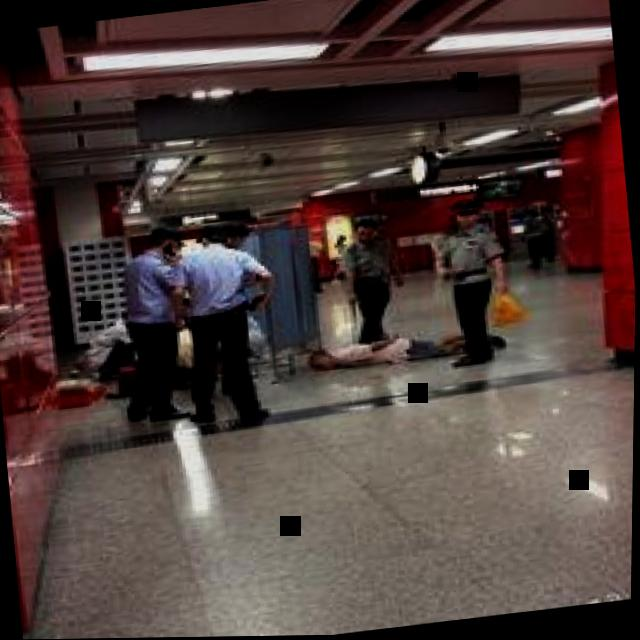Fall-Detected: (280, 311, 486, 378)
